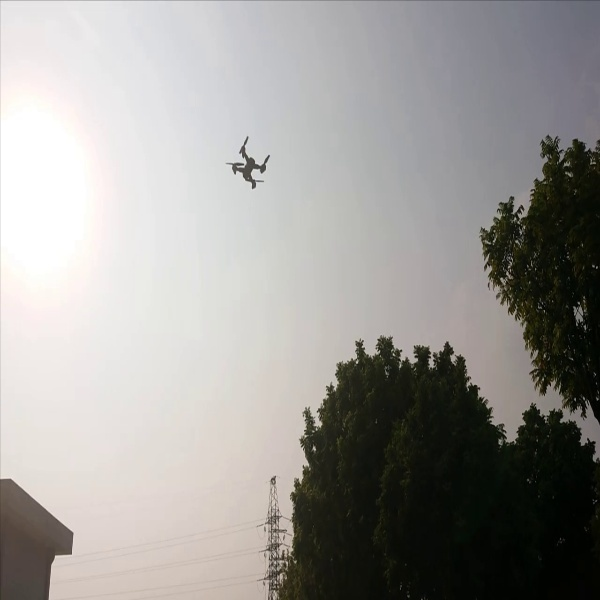drone: (220, 132, 274, 194)
